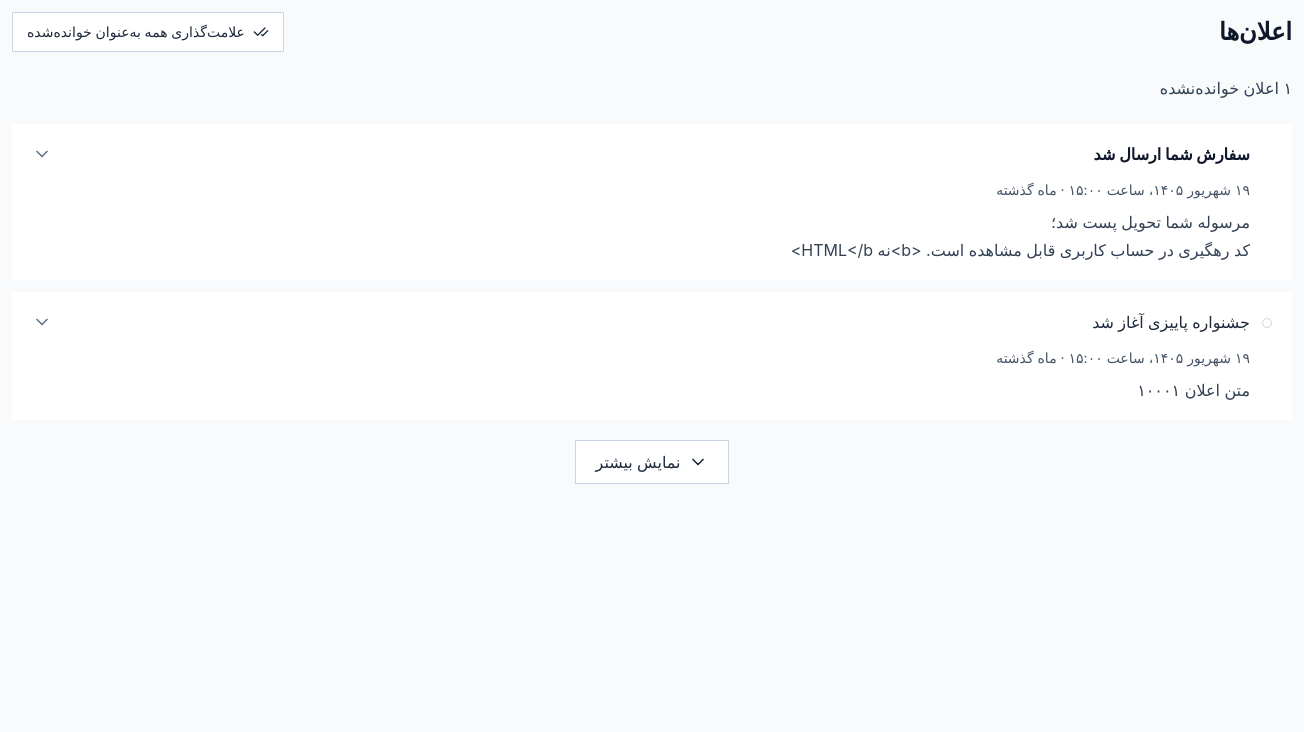
Test: NotificationsPage › «نمایش بیشتر» reads the next 20
Click the button "نمایش بیشتر".
click(652, 462)  # box [574,440,729,484]
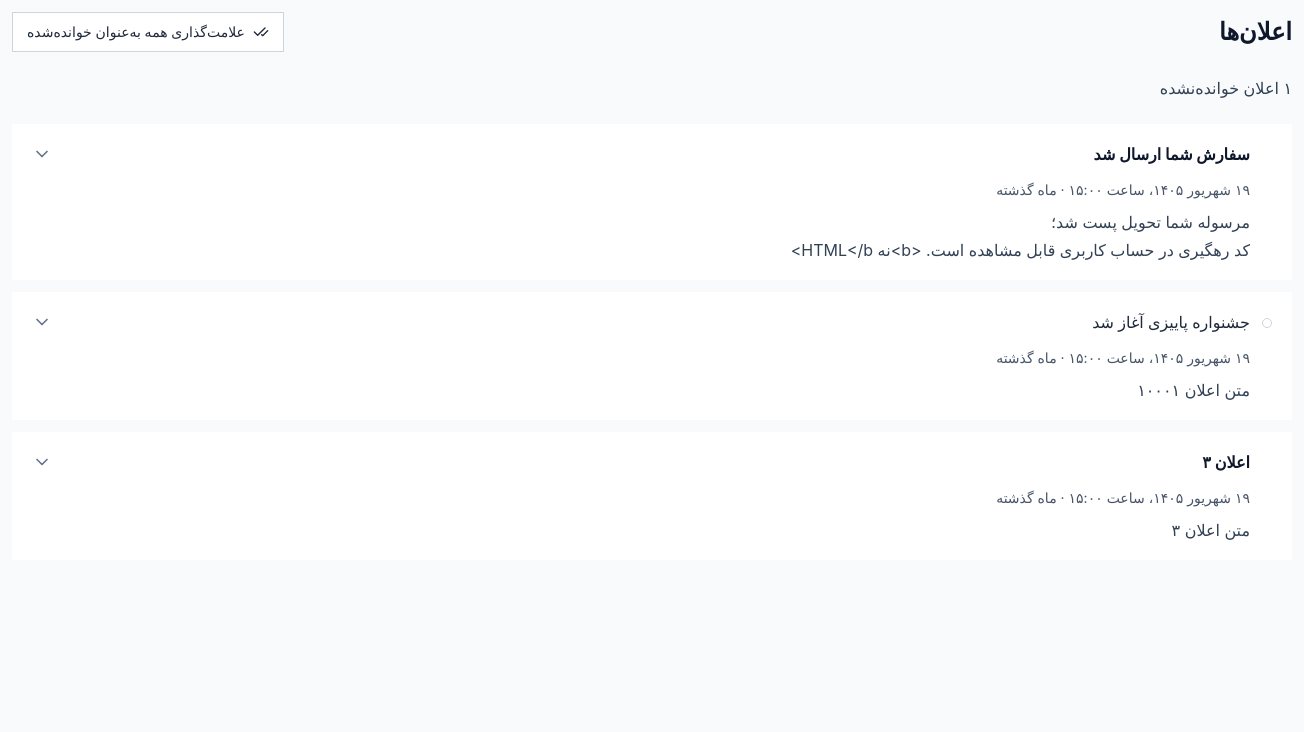
Result: the button "اعلان ۳" is shown at [12,432,1292,488]
Result: the button "نمایش بیشتر" is gone
